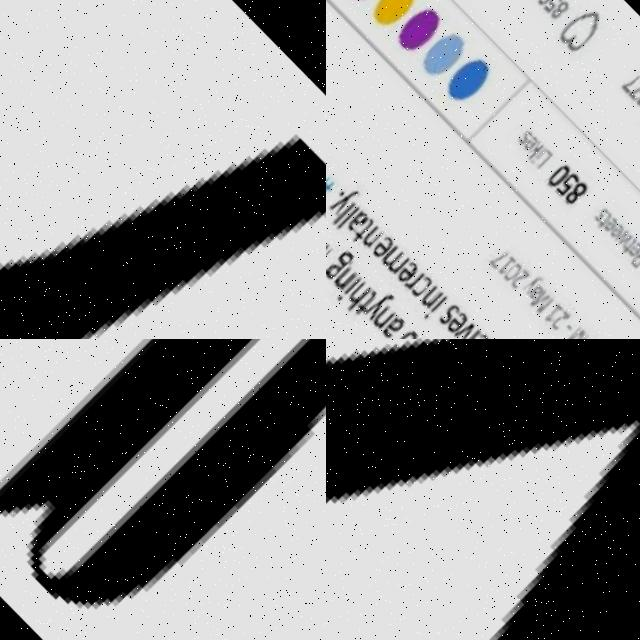0: (545, 149, 573, 181), (500, 248, 525, 276)
1: (495, 243, 518, 269), (544, 289, 565, 313)
2: (508, 255, 531, 282), (551, 297, 572, 321)
3: (633, 71, 640, 97)
4: (584, 330, 608, 339)
5: (554, 157, 582, 189)
7: (488, 236, 512, 263), (619, 56, 640, 83), (627, 64, 640, 90)
8: (560, 164, 592, 200), (545, 0, 571, 12)
Q: (0, 339, 326, 640)
R: (0, 0, 326, 339)
V: (326, 339, 640, 640)
